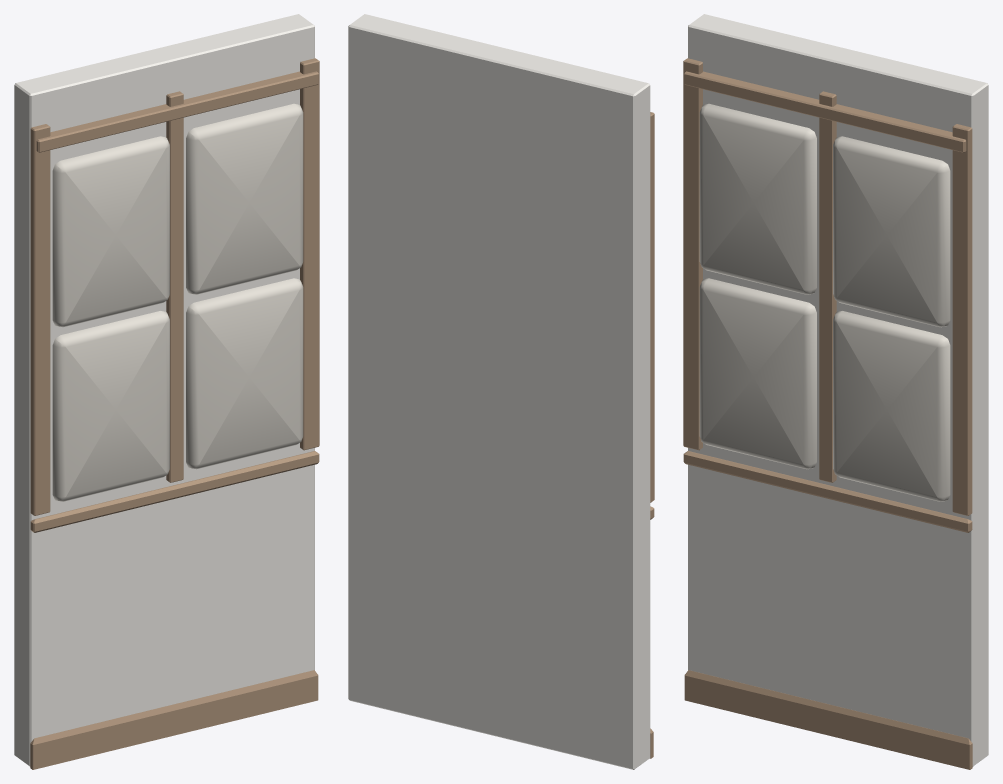
File: hotel-and-resort-operations-corridor-wall-panelled-57dceb9b__25818.glb
The picture shows the model from 3 angles, left to right: view 1: azimuth 30°, elevation 25°; view 2: azimuth 150°, elevation 25°; view 3: azimuth 330°, elevation 25°; orthographic projection.
Parts seen in each view (by area): view 1: corridor-wall-panelled; view 2: corridor-wall-panelled; view 3: corridor-wall-panelled.
Boxes of the visible parts, x1,y1,x2,y2 form: corridor-wall-panelled: (14, 14, 319, 769); corridor-wall-panelled: (348, 14, 654, 769); corridor-wall-panelled: (683, 14, 988, 769).
Size of the model in its own units: 1.2 by 2.7 by 0.19.
